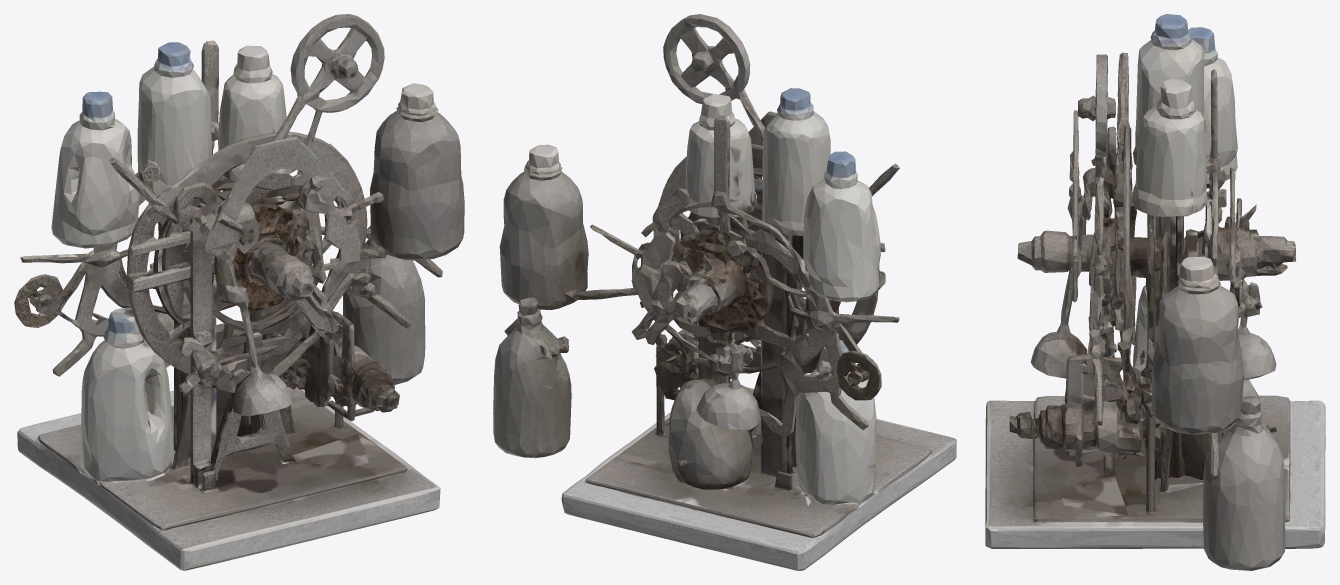
The model's file is belly (48).glb.
3 renders of one model, left to right at view 1: azimuth 30°, elevation 25°; view 2: azimuth 150°, elevation 25°; view 3: azimuth 270°, elevation 25°, orthographic. The views are drawn at different scales.
Visible parts, largest first — view 1: Hy21_Mesh.obj; view 2: Hy21_Mesh.obj; view 3: Hy21_Mesh.obj.
Boxes of the visible parts, x1=… form: Hy21_Mesh.obj: x1=14, y1=14, x2=464, y2=570; Hy21_Mesh.obj: x1=493, y1=14, x2=956, y2=570; Hy21_Mesh.obj: x1=985, y1=14, x2=1325, y2=570.
Size of the model in its own units: 1.9 by 1.96 by 1.29.
1 material, 1 textured.
